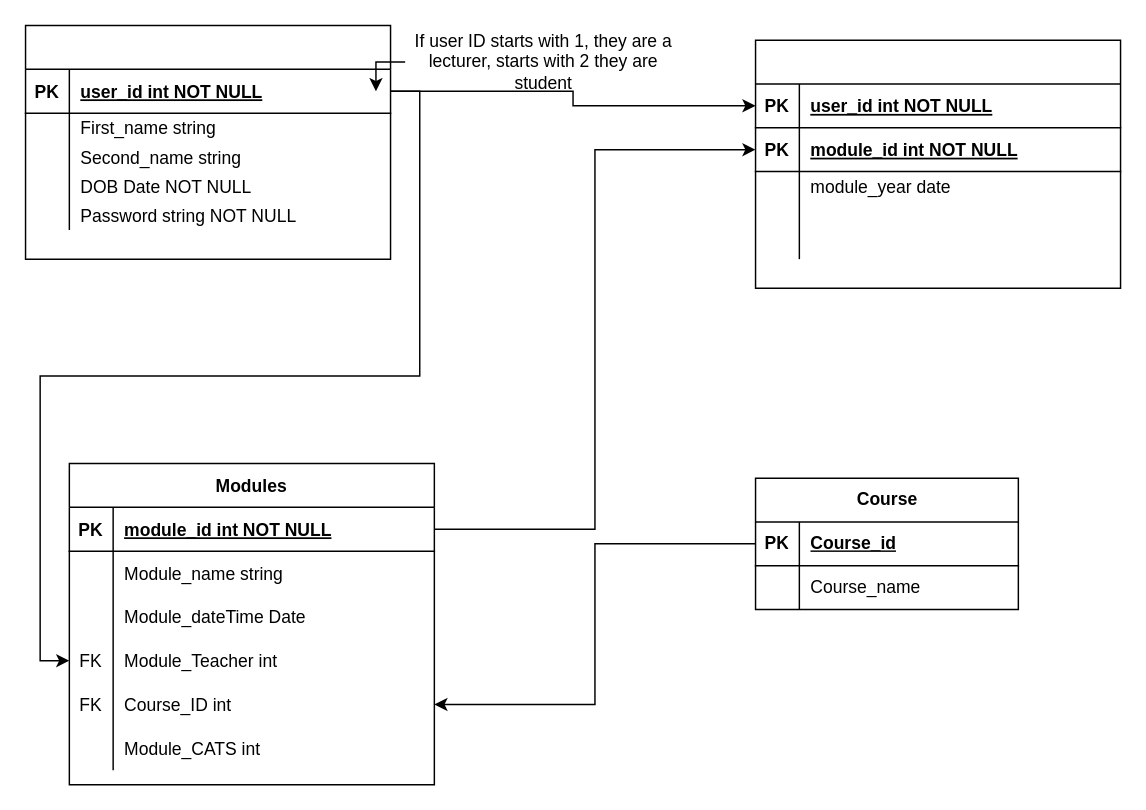
The diagram is 1146 pixels wide and 810 high, and some of its shapes have lost their labels. The shapes that lost their labels are listed below. From the top down, each one's box as (x1, y1, x2, y2) in pixels, then its label:
(24, 24, 391, 259): Users
(754, 39, 1121, 288): Students Modules
